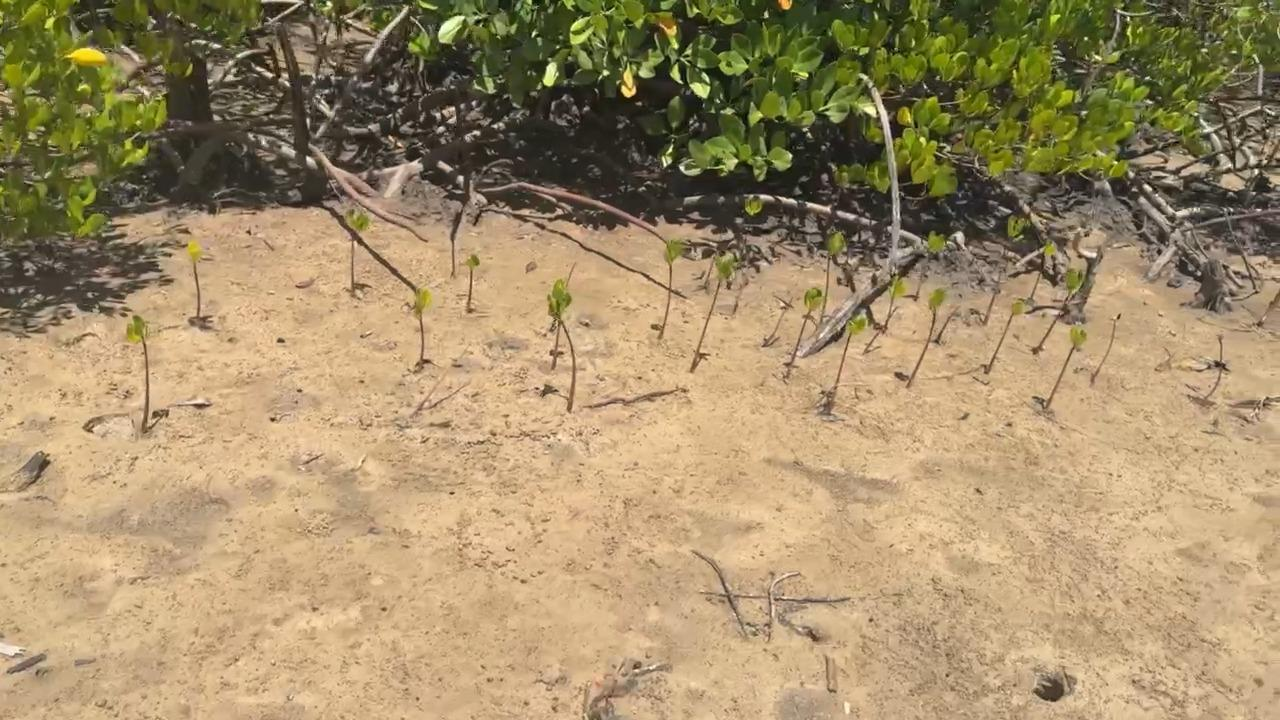Tree: (690, 257, 733, 372), (546, 279, 577, 413), (984, 217, 1024, 320), (1035, 268, 1084, 352), (907, 286, 946, 387), (1044, 327, 1089, 408), (126, 315, 156, 433), (786, 286, 823, 378), (658, 237, 688, 338), (985, 302, 1025, 375), (550, 263, 577, 370), (833, 314, 866, 390), (820, 231, 846, 322), (915, 232, 946, 300), (345, 207, 368, 292), (1091, 314, 1120, 381), (863, 307, 899, 354), (1028, 241, 1056, 301), (764, 295, 793, 349), (410, 287, 430, 360), (934, 304, 964, 345), (741, 196, 761, 256), (884, 276, 905, 331), (188, 244, 203, 318), (466, 255, 480, 310)
